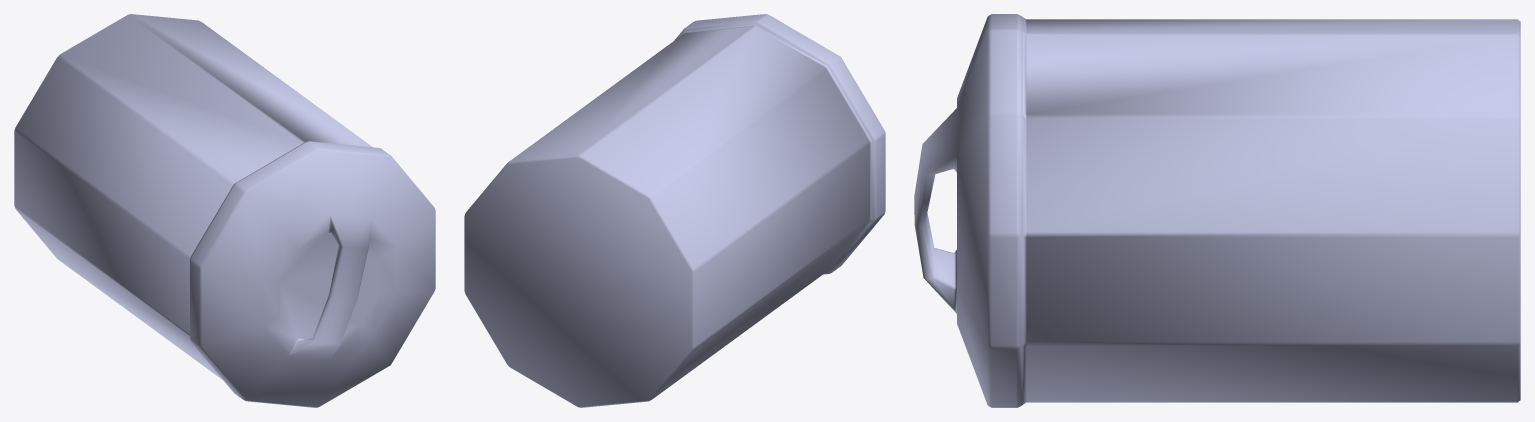
The model's file is trashcan.gltf.
The picture shows the model from 3 angles, left to right: view 1: azimuth 30°, elevation 25°; view 2: azimuth 150°, elevation 25°; view 3: azimuth 270°, elevation 25°; orthographic projection. The views are drawn at different scales.
Parts seen in each view (by area): view 1: trashcan.001; view 2: trashcan.001; view 3: trashcan.001.
Boxes of the visible parts, x1,y1,x2,y2 form: trashcan.001: [14, 14, 435, 407]; trashcan.001: [464, 14, 885, 407]; trashcan.001: [914, 14, 1520, 407].
Bounding box in the file's own units: 1.89 × 1.98 × 3.
